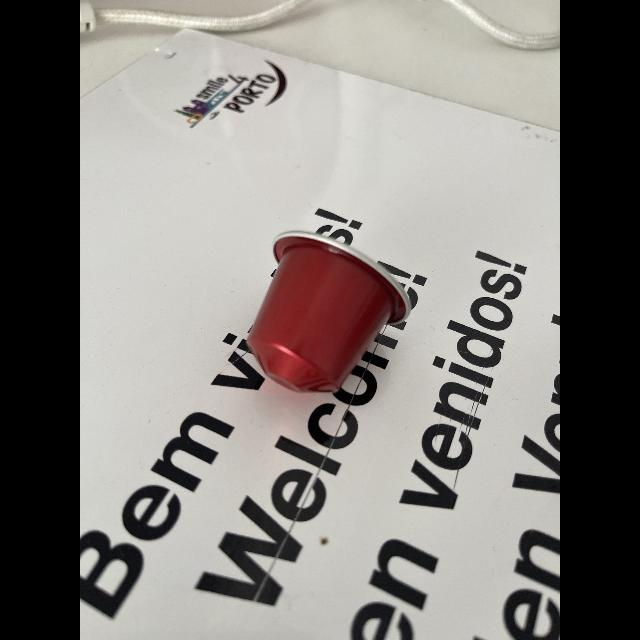intact_capsule: (225, 215, 421, 419)
